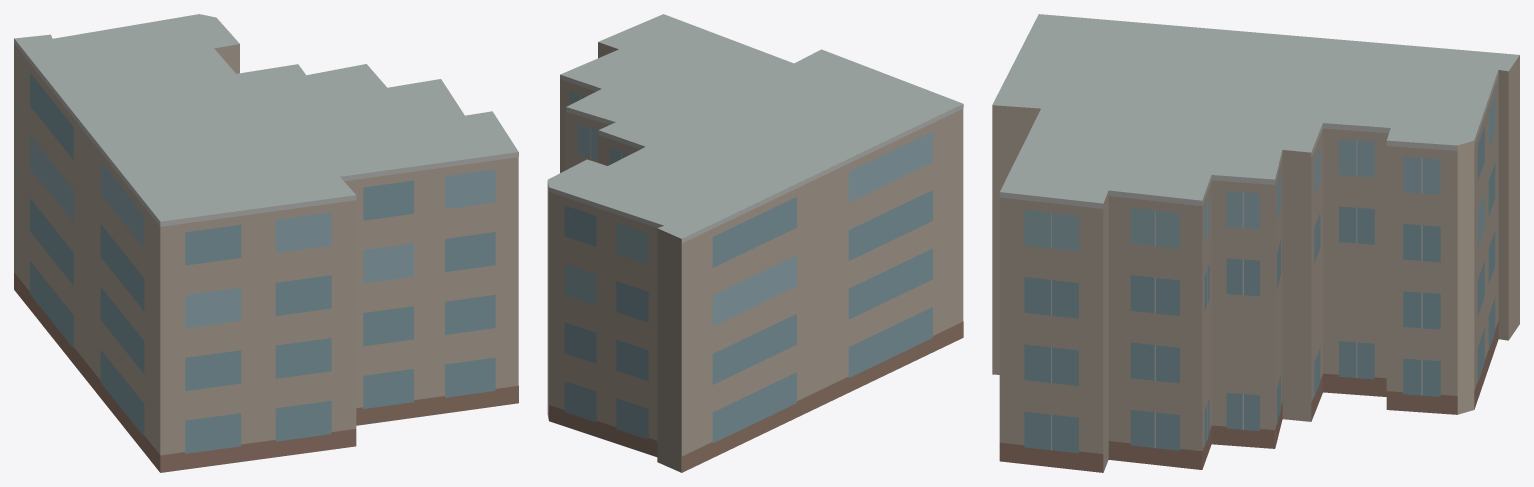
File: survey-upis-32653902.glb
3 renders of one model, left to right at view 1: azimuth 30°, elevation 25°; view 2: azimuth 150°, elevation 25°; view 3: azimuth 270°, elevation 25°, orthographic. The views are drawn at different scales.
Parts seen in each view (by area): view 1: survey-upis-32653902.tmp; view 2: survey-upis-32653902.tmp; view 3: survey-upis-32653902.tmp.
Boxes of the visible parts, left/top/right/bottom form: survey-upis-32653902.tmp: left=14, top=14, right=518, bottom=472; survey-upis-32653902.tmp: left=547, top=14, right=963, bottom=472; survey-upis-32653902.tmp: left=992, top=14, right=1519, bottom=472.
Size of the model in its own units: 18.28 by 12.1 by 21.5.
